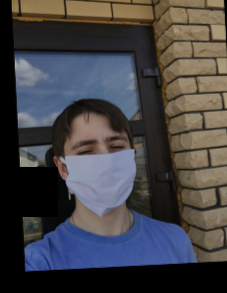with_mask: (59, 124, 136, 218)
